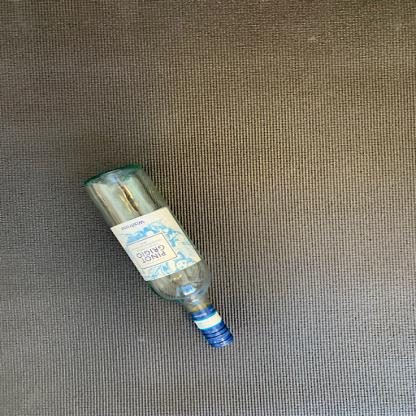trash: (84, 163, 236, 348)
